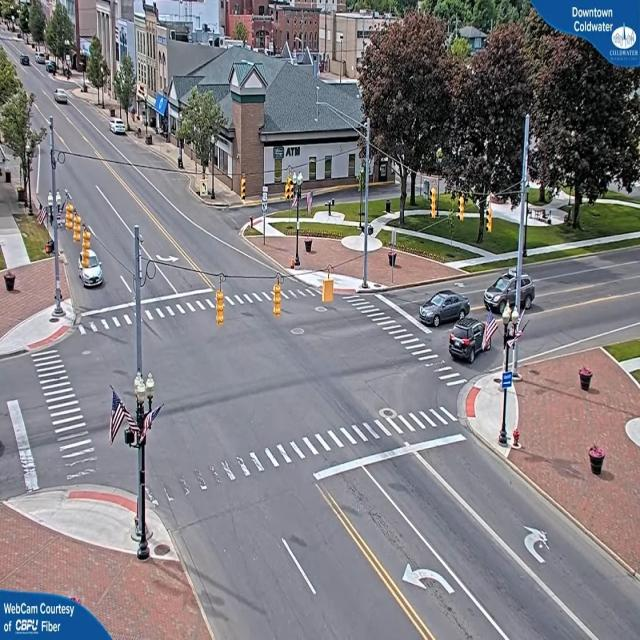car: (450, 312, 493, 360), (419, 288, 470, 328), (110, 119, 128, 136), (54, 90, 68, 105)
